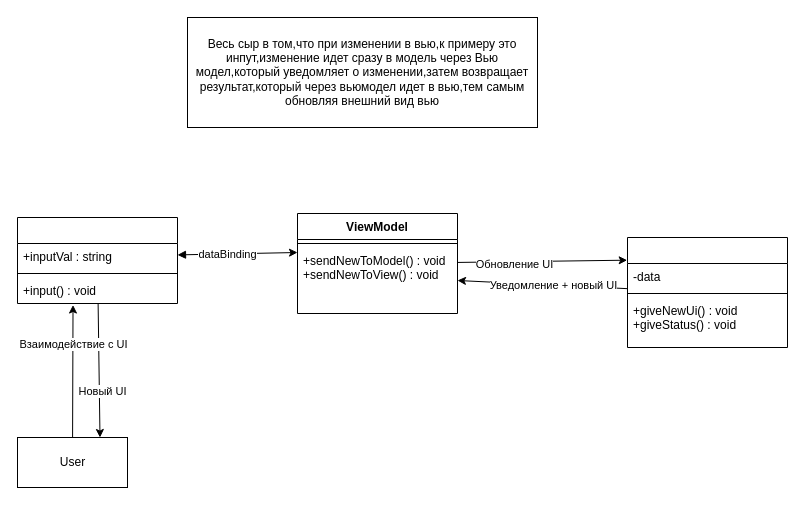
This 805x505 diagram has some shape labels left out. The shapes that lost their labels are listed below. From the top down, each one's box as (x1, y1, x2, y2) in pixels, then its label:
(16, 216, 178, 304): View
(626, 236, 788, 348): Model
